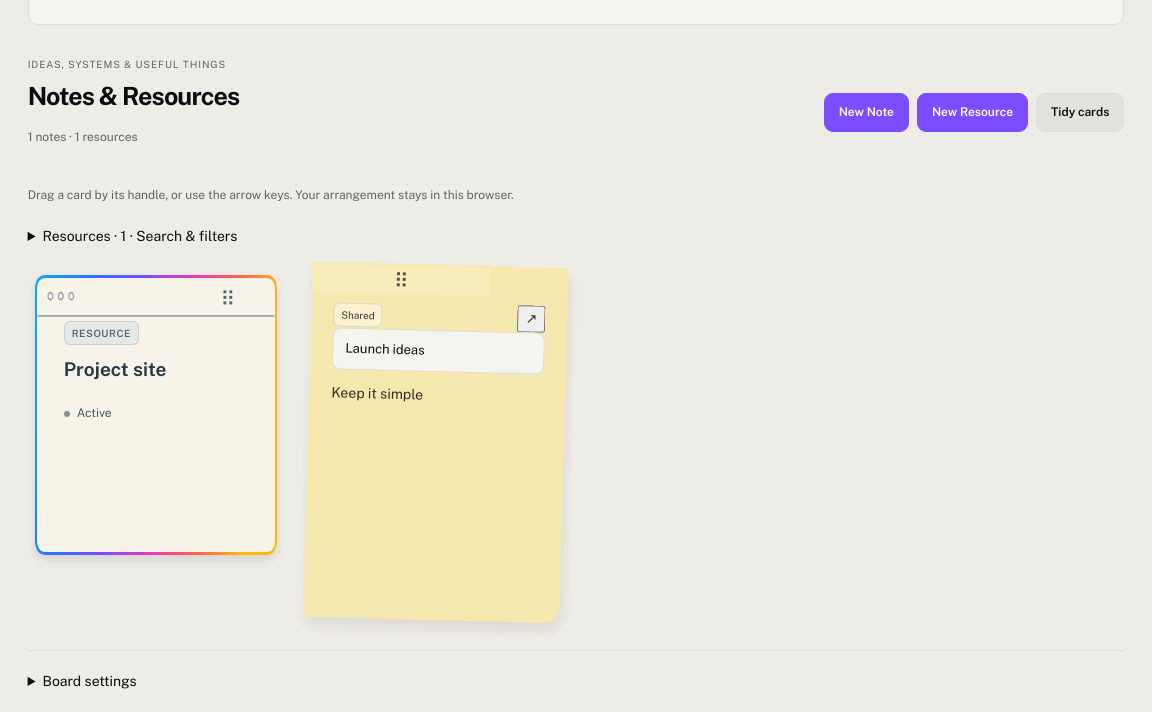
Test: autosaves a note with its observed revision and preserves a conflicting draft
(page scrolled)
Click the button with aria-label "Edit note text" at (377, 393), box 331,384 -> 423,402
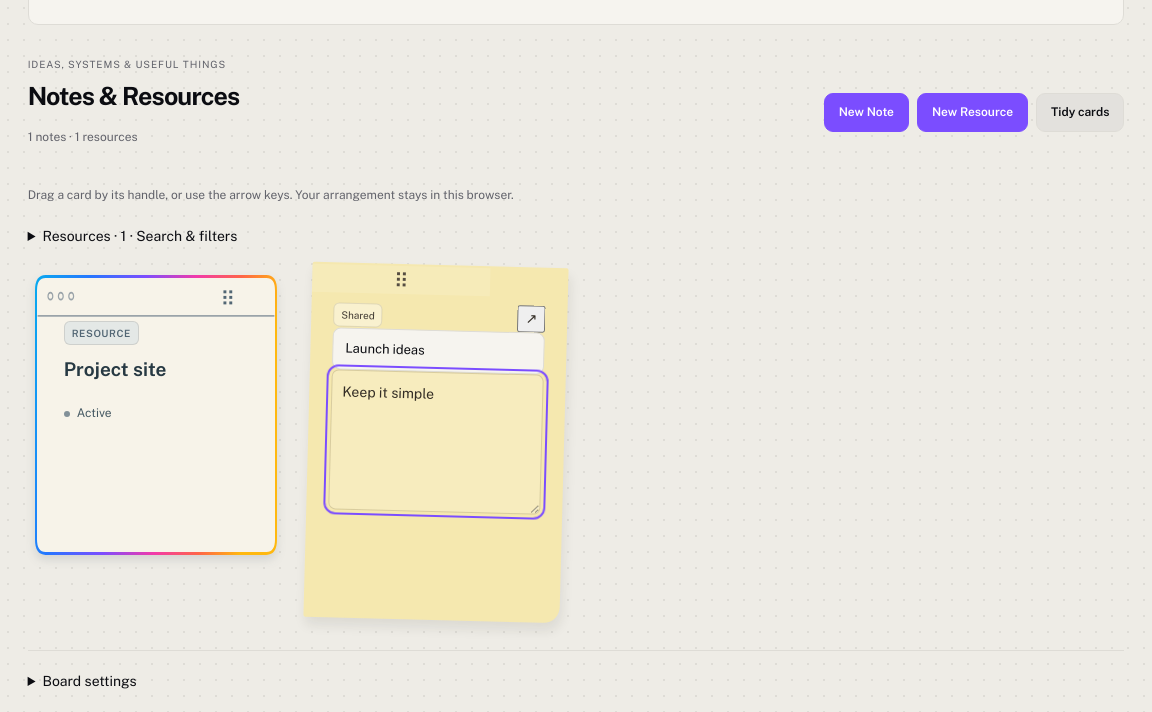
Replace the text in the text box named "Note text: Launch ideas" with "My unsaved idea" at (436, 441), box 328,369 -> 544,514
(page scrolled)
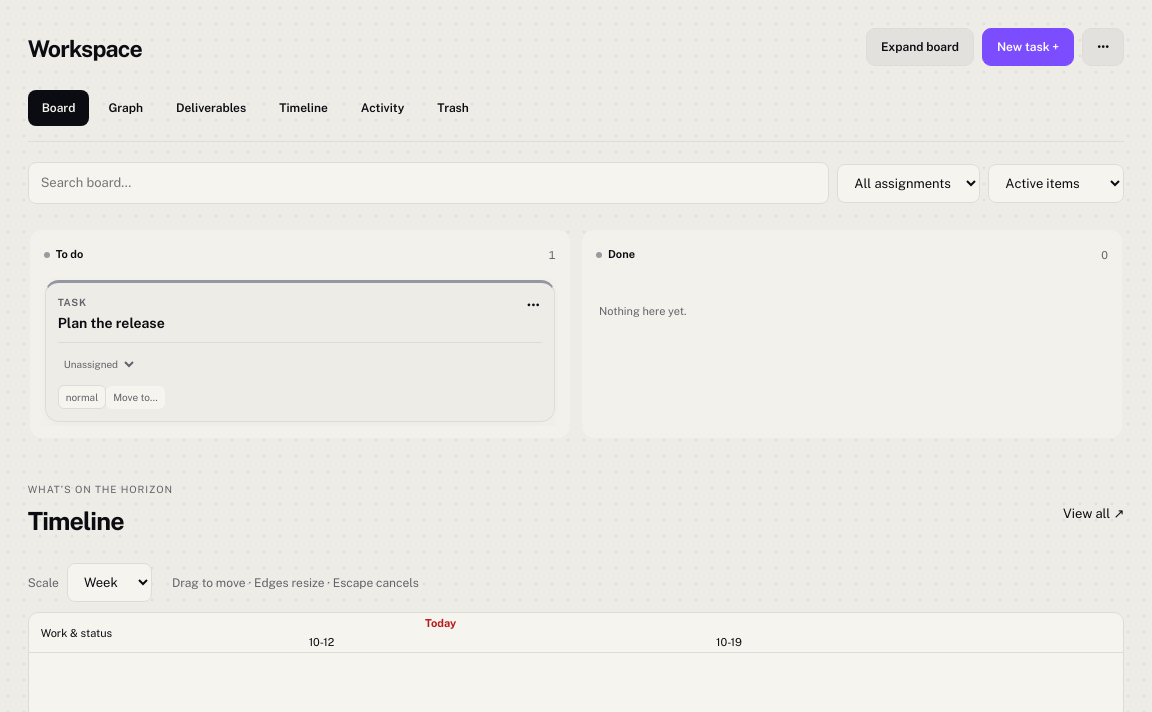
Click the link "Graph" at (126, 108), box 108,101 -> 143,115
(page scrolled)
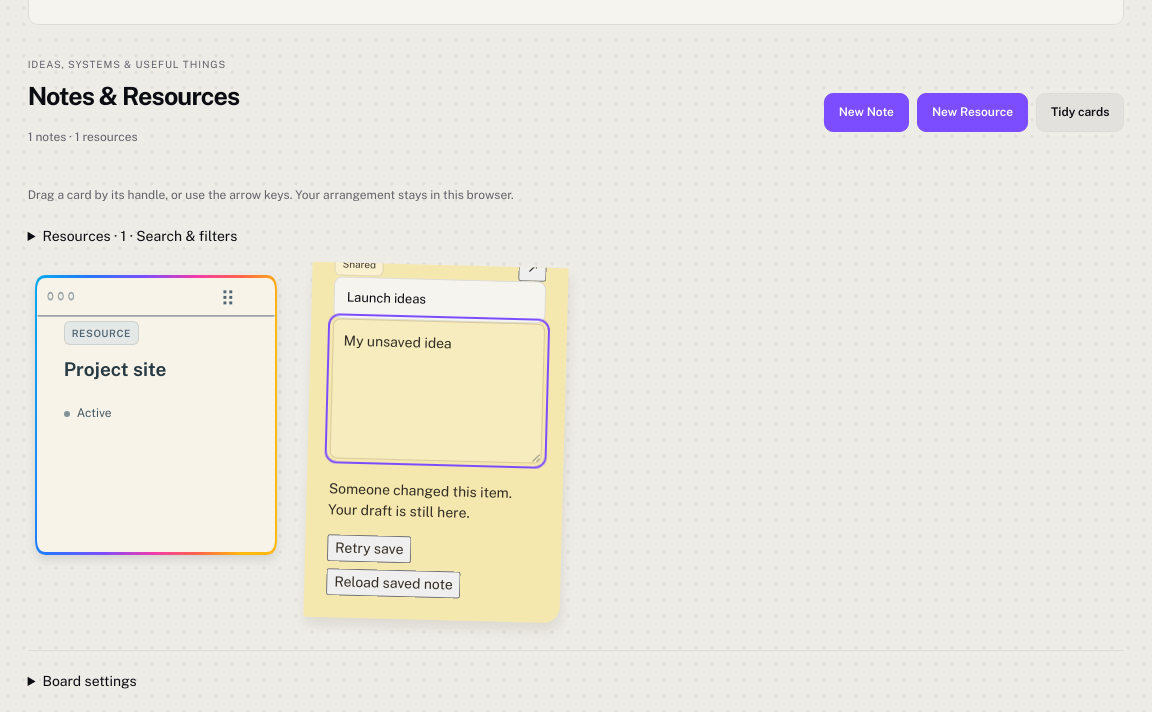
Click the button "Reload saved note" at (393, 583), box 326,568 -> 461,598
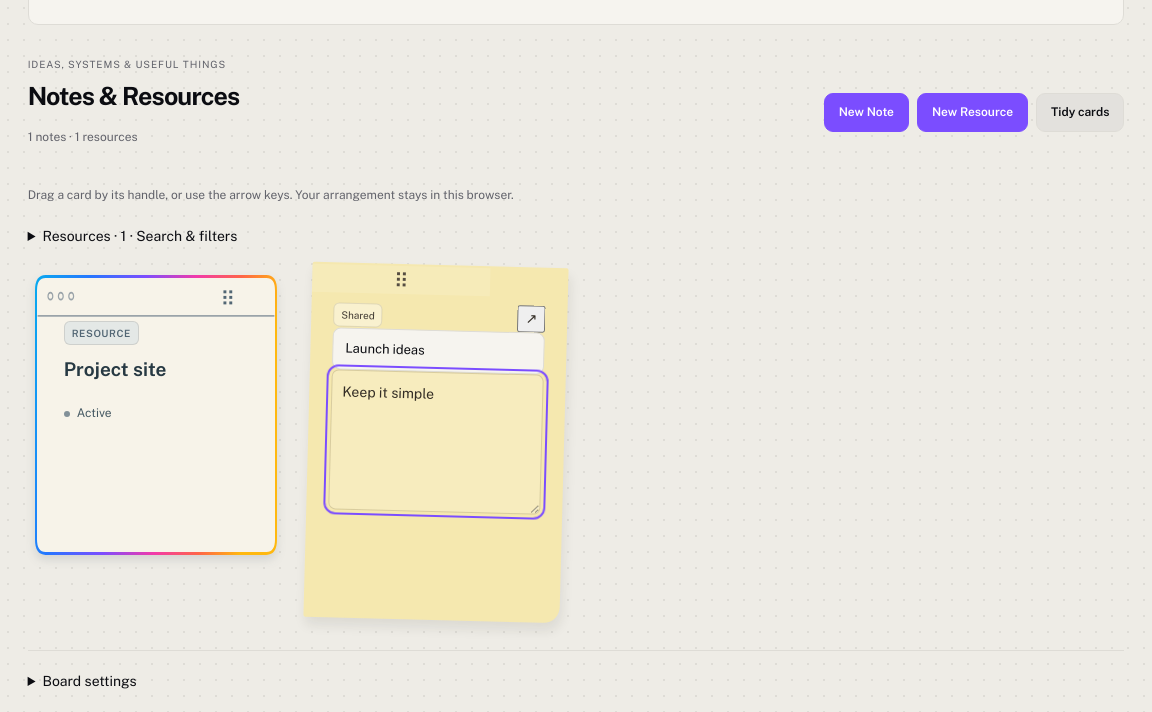
Now the text box named "Note text: Launch ideas" holds "Keep it simple", box 328,369 -> 544,514
